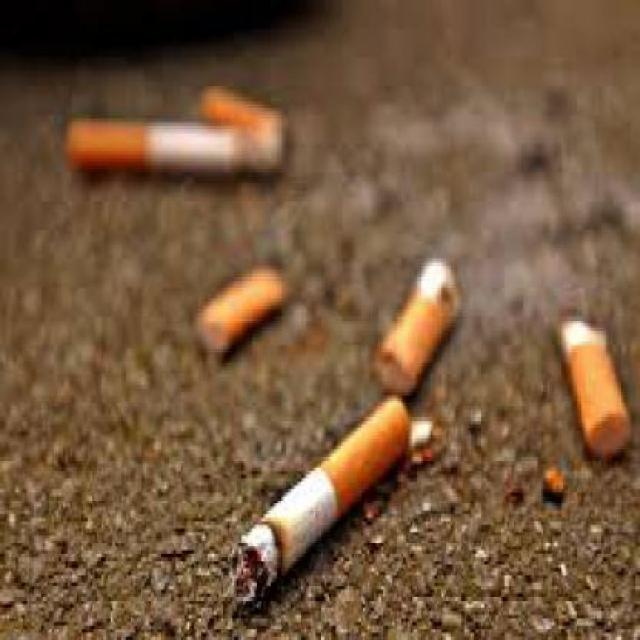cigarette: (234, 414, 421, 608), (369, 251, 465, 407), (548, 313, 629, 485), (54, 119, 243, 188), (189, 58, 291, 165), (196, 255, 298, 360)
